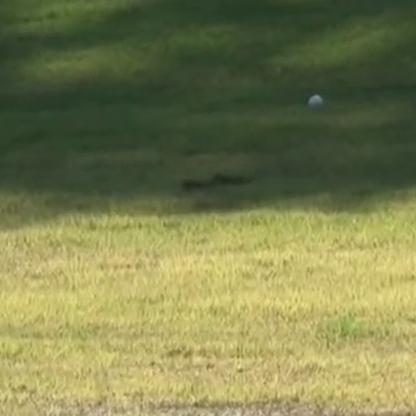golfball: (305, 91, 324, 109)
